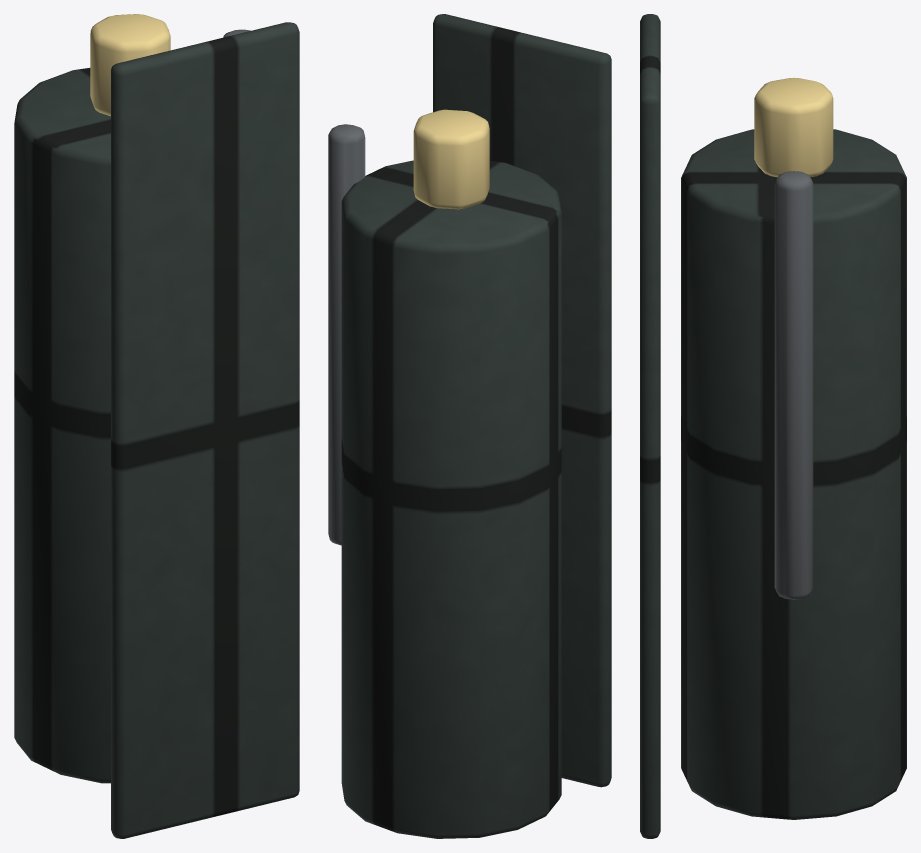
File: WK_PROP_EXTINGUISHER_01.glb
3 views of the same model, side by side, from view 1: azimuth 30°, elevation 25°; view 2: azimuth 150°, elevation 25°; view 3: azimuth 270°, elevation 25° (orthographic). The views are drawn at different scales.
Parts seen in each view (by area): view 1: WK_PROP_EXTINGUISHER_01; view 2: WK_PROP_EXTINGUISHER_01; view 3: WK_PROP_EXTINGUISHER_01.
Part boxes in pixels (<box>): WK_PROP_EXTINGUISHER_01: <box>14,14,299,838</box>; WK_PROP_EXTINGUISHER_01: <box>328,14,611,838</box>; WK_PROP_EXTINGUISHER_01: <box>640,14,906,838</box>.
Size of the model in its own units: 0.2488 by 0.8 by 0.26.
3 materials, 1 textured.
